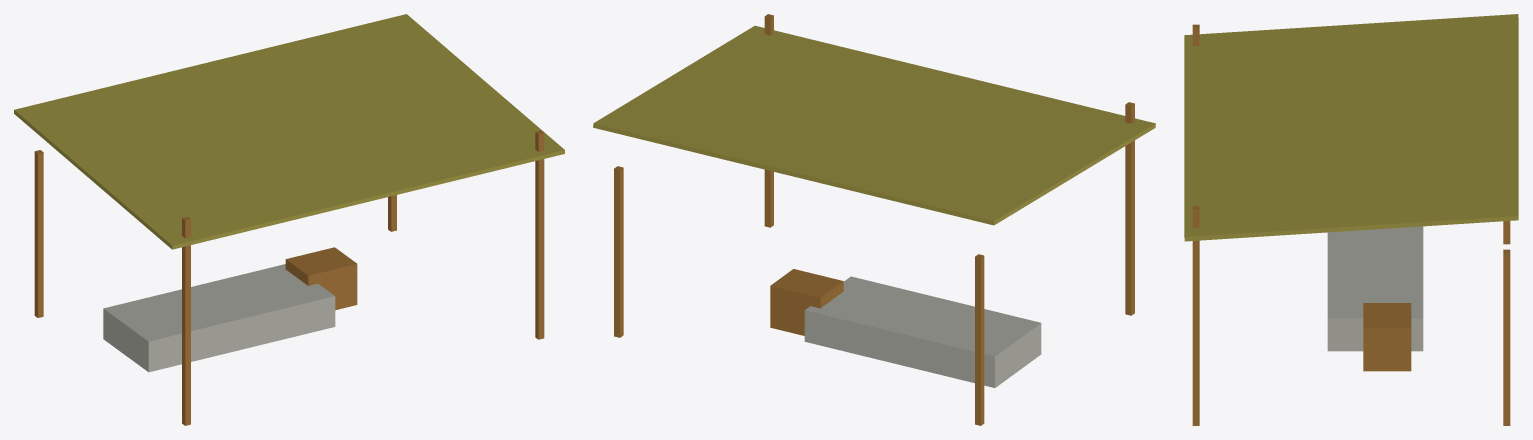
File: SM_Tienda_v1_Lona_LOD0.fbx
3 views of the same model, side by side, from view 1: azimuth 30°, elevation 25°; view 2: azimuth 150°, elevation 25°; view 3: azimuth 270°, elevation 25° (orthographic). The views are drawn at different scales.
Parts seen in each view (by area): view 1: SM_vida_fuerte_v16_LOD0; view 2: SM_vida_fuerte_v16_LOD0; view 3: SM_vida_fuerte_v16_LOD0.
Boxes of the visible parts, <box> form: SM_vida_fuerte_v16_LOD0: <box>14,14,564,425</box>; SM_vida_fuerte_v16_LOD0: <box>593,14,1155,425</box>; SM_vida_fuerte_v16_LOD0: <box>1184,14,1518,425</box>.
Bounding box in the file's own units: 4 × 2.02 × 2.8.
